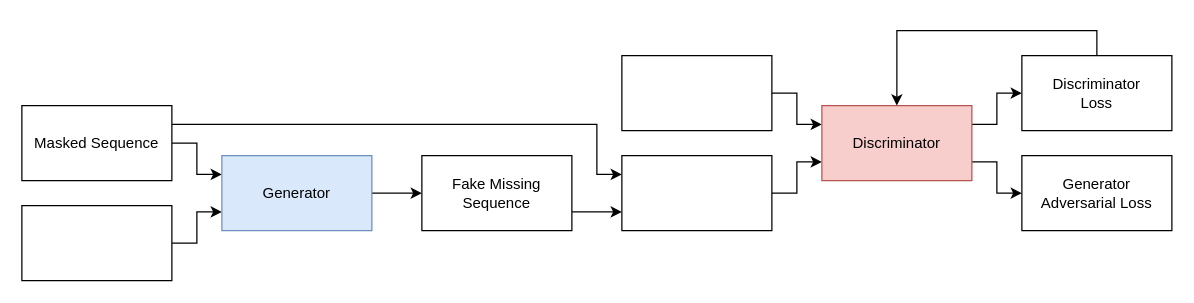
Some shapes in this 1194 by 303 pixel diagram are drawn without their labels. The shapes that lost their labels are listed below. From the top down, each one's centre as x and y in pixels, then its label:
point 696,92: Real Full Sequence
point 696,192: Fake Full Sequence
point 96,242: Real Expression
